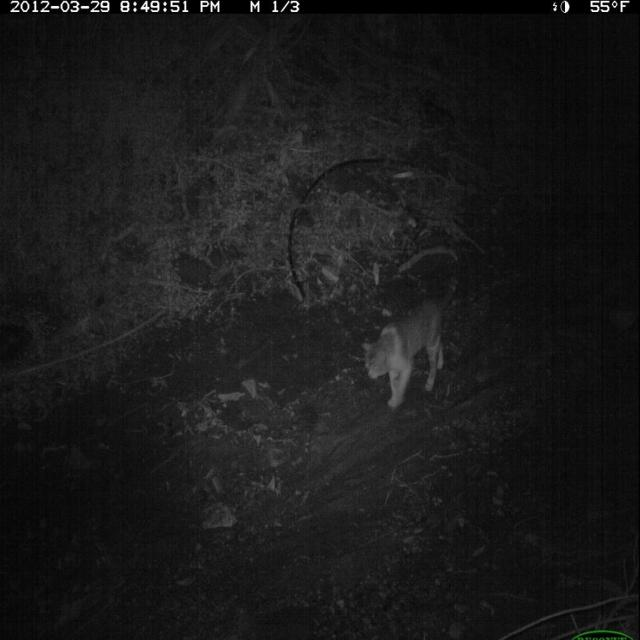cat: (366, 243, 457, 421)
